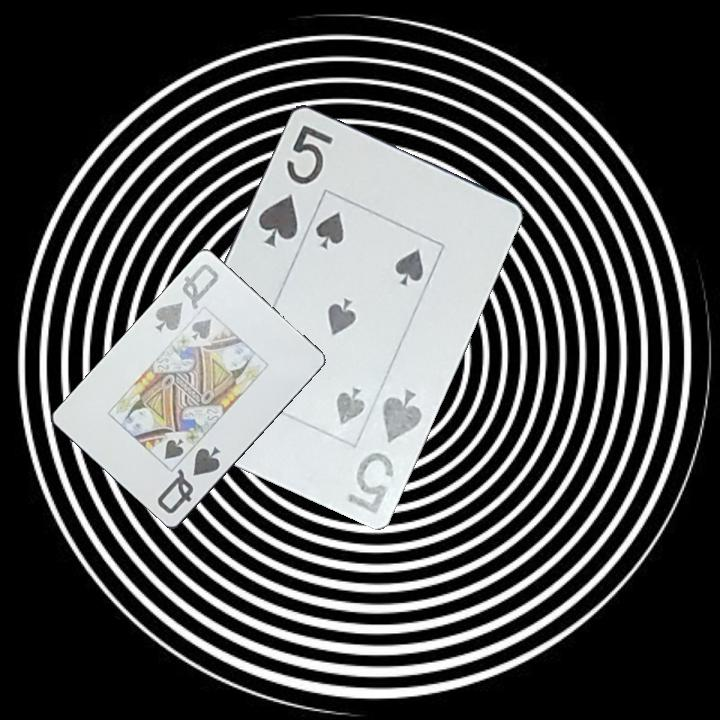5s: (344, 384, 425, 517), (254, 120, 337, 249)
Qs: (151, 261, 222, 335), (154, 443, 224, 517)
